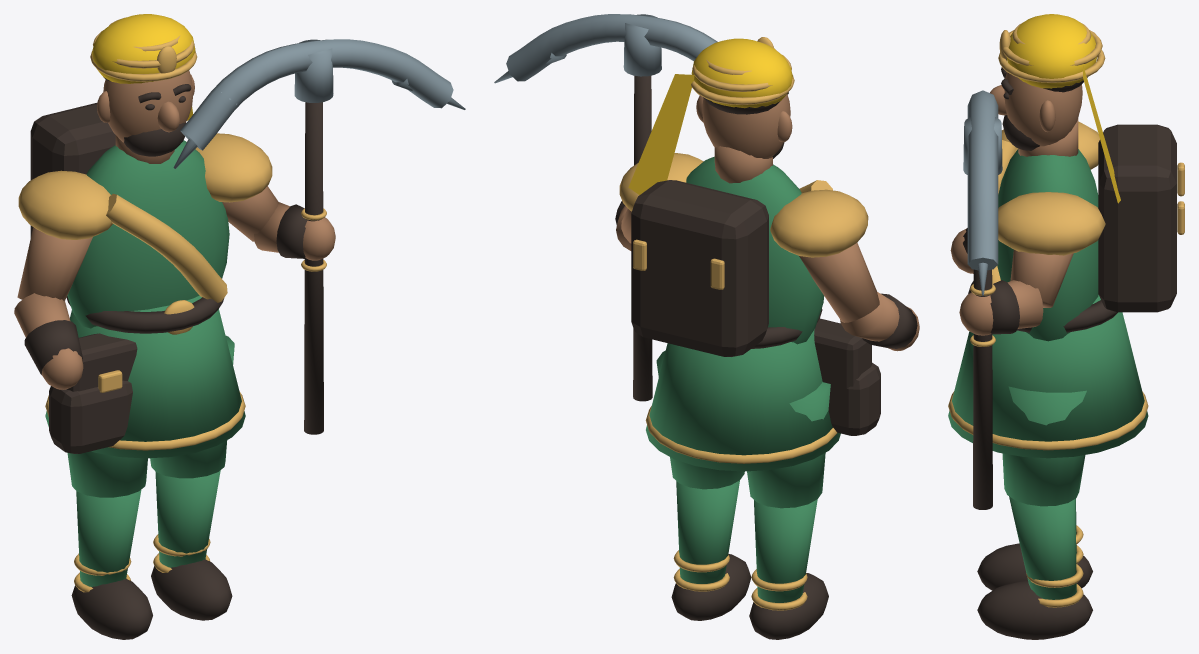
File: miner.glb
The picture shows the model from 3 angles, left to right: view 1: azimuth 30°, elevation 25°; view 2: azimuth 150°, elevation 25°; view 3: azimuth 270°, elevation 25°; orthographic projection. The views are drawn at different scales.
Parts seen in each view (by area): view 1: miner_Body, miner_Pickaxe_arm; view 2: miner_Body, miner_Pickaxe_arm; view 3: miner_Body, miner_Pickaxe_arm.
Boxes of the visible parts, x1,y1,x2,y2 form: miner_Body: (14, 14, 272, 639); miner_Pickaxe_arm: (173, 39, 465, 434); miner_Body: (619, 37, 919, 639); miner_Pickaxe_arm: (494, 14, 717, 401); miner_Body: (948, 14, 1184, 639); miner_Pickaxe_arm: (959, 90, 1073, 509).
Bounding box in the file's own units: 1.25 × 1.66 × 0.5978.
